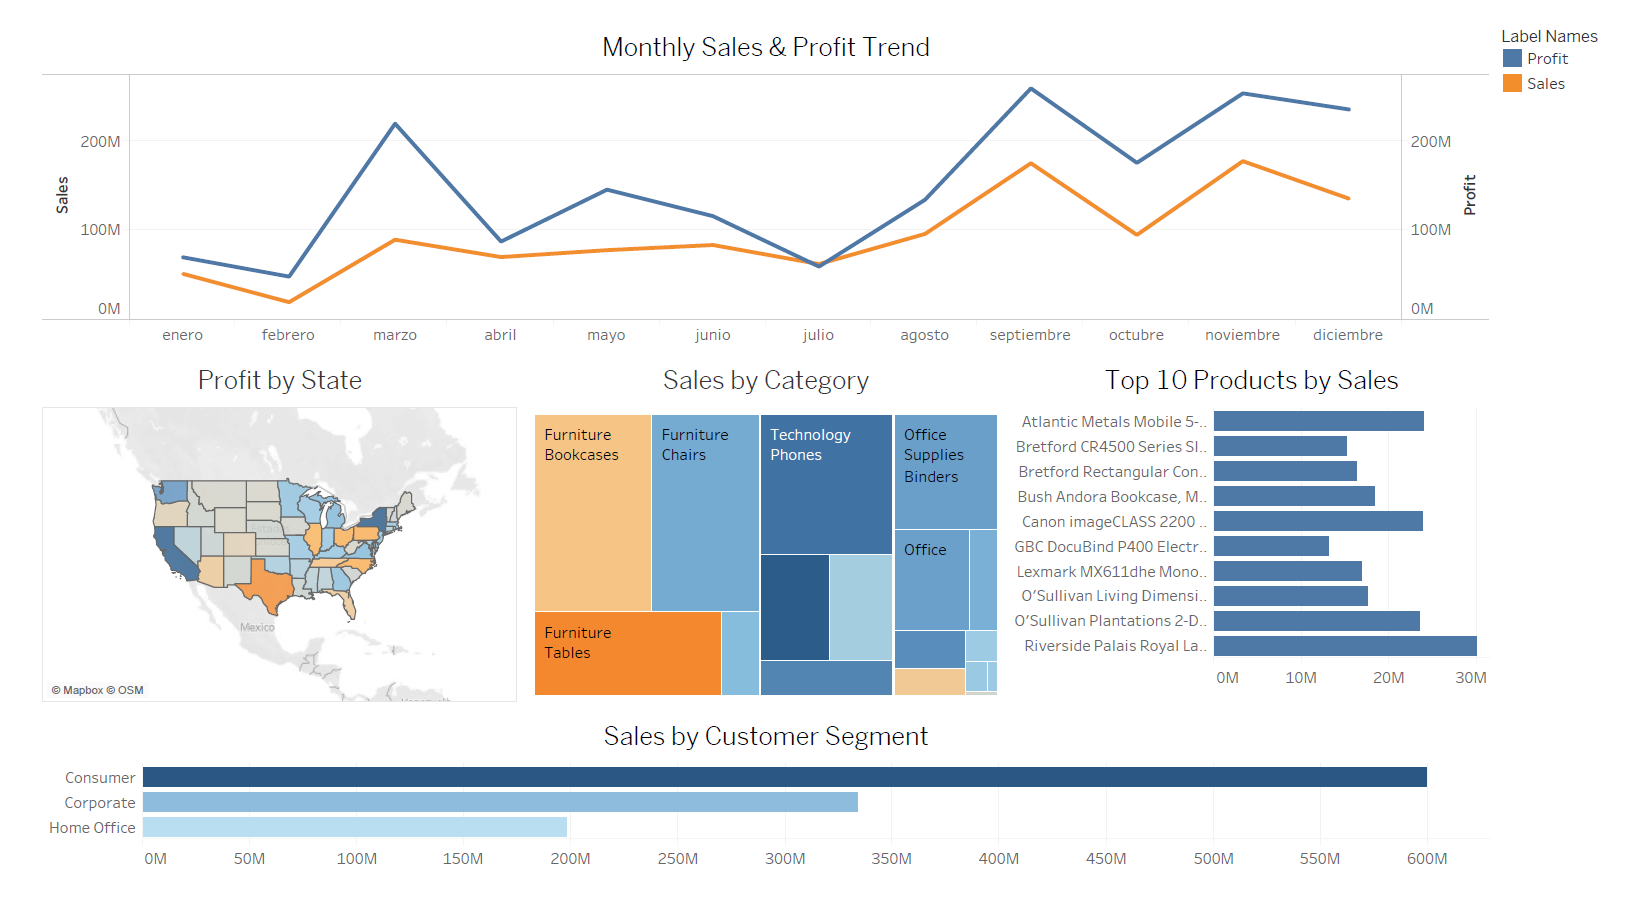

The dashboard page shown, as its layout file describes it:
{"tool":"tableau","page":{"name":"Dashboard 1","canvas":[1280,720],"ordinal":0},"visuals":[{"type":"worksheet","title":"Ventas y Profit Mensual","mark":"Line","rows":["Sales","Profit"],"cols":["Order Date"],"box":[8,8,1167,267]},{"type":"legend","title":"Ventas y Profit Mensual","param":"[federated.0xiniol1kfgu9x14rpuw31g49qfw].[:Measure Names]","box":[1175,8,97,704]},{"type":"worksheet","title":"Profit por Estado","mark":"Multipolygon","box":[8,275,388.9,285]},{"type":"worksheet","title":"Ventas por Categoría","mark":"Automatic","box":[396.9,275,389,285]},{"type":"worksheet","title":"Top 10 Productos","mark":"Automatic","rows":["Product Name"],"cols":["Sales"],"box":[785.9,275,389.1,285]},{"type":"worksheet","title":"Ventas por Segmento","mark":"Automatic","rows":["Segment"],"cols":["Sales"],"box":[8,560,1167,152]}]}

Visuals, with their boxes in screenshot pixels (x1, y1, x2, y2), scaled from the page's 1280x720 canvas onto the 1642x898 screenshot:
"Ventas y Profit Mensual" worksheet (Line marks): l=10, t=10, r=1507, b=343
"Ventas y Profit Mensual" legend: l=1507, t=10, r=1632, b=888
"Profit por Estado" worksheet (Multipolygon marks): l=10, t=343, r=509, b=698
"Ventas por Categoría" worksheet: l=509, t=343, r=1008, b=698
"Top 10 Productos" worksheet: l=1008, t=343, r=1507, b=698
"Ventas por Segmento" worksheet: l=10, t=698, r=1507, b=888
